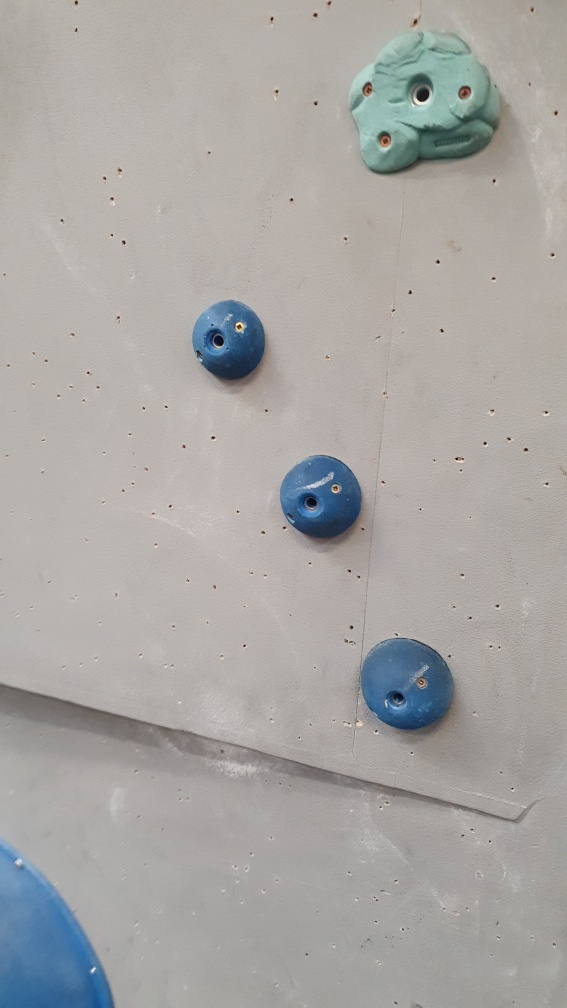Sloper: (355, 626, 463, 741), (274, 446, 366, 543), (189, 293, 269, 388)
